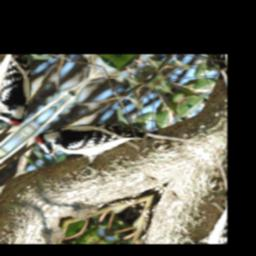Woodpecker: (29, 92, 149, 186)
